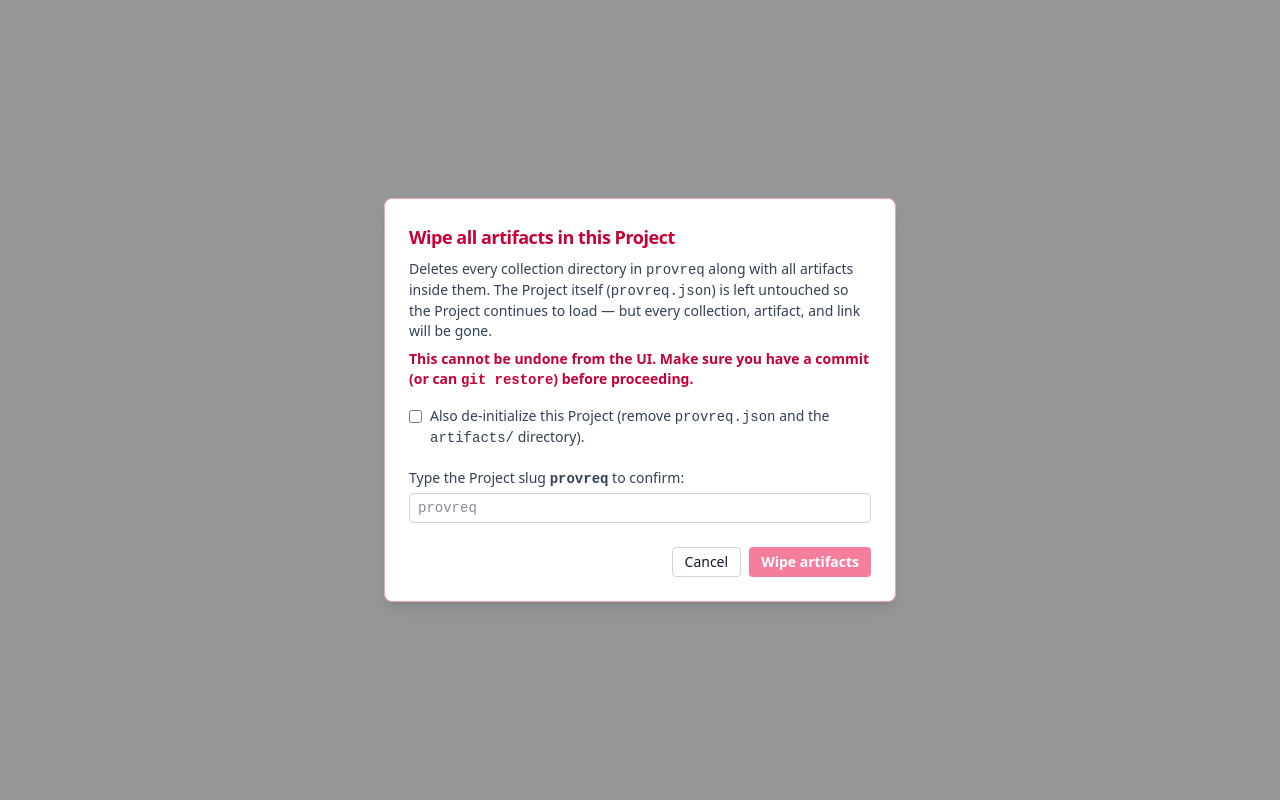
Test: WipeArtifactsDialog › disables the wipe button until the slug is typed exactly
Expected: the button with test id "wipe-artifacts-confirm" is disabled, [749,547,871,577]
Type "wrong" into the field with test id "wipe-artifacts-confirm-input".
click(640, 508); type("wrong")  # box [409,493,871,523]
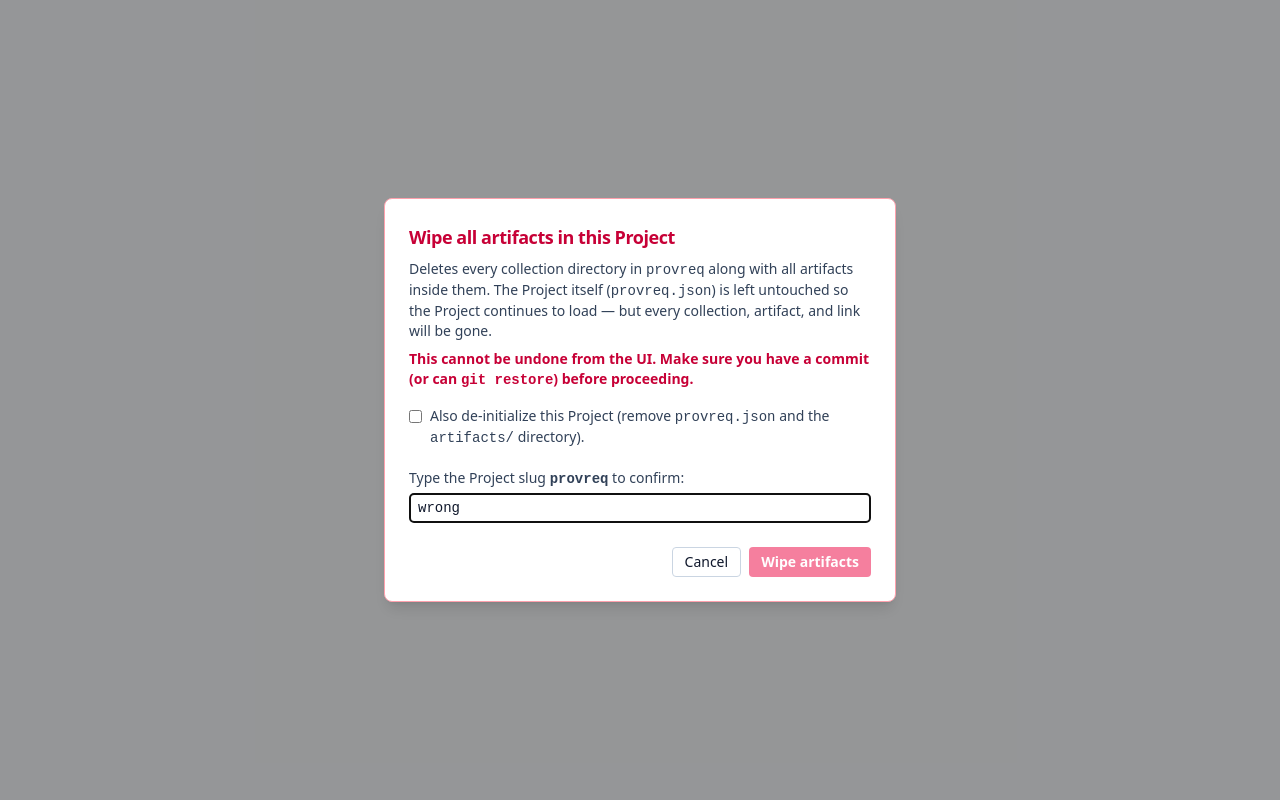
Expected: the button with test id "wipe-artifacts-confirm" is disabled, [749,547,871,577]
Replace the text in the field with test id "wipe-artifacts-confirm-input" with "provreq" at {"x": 640, "y": 508}, box [409,493,871,523]
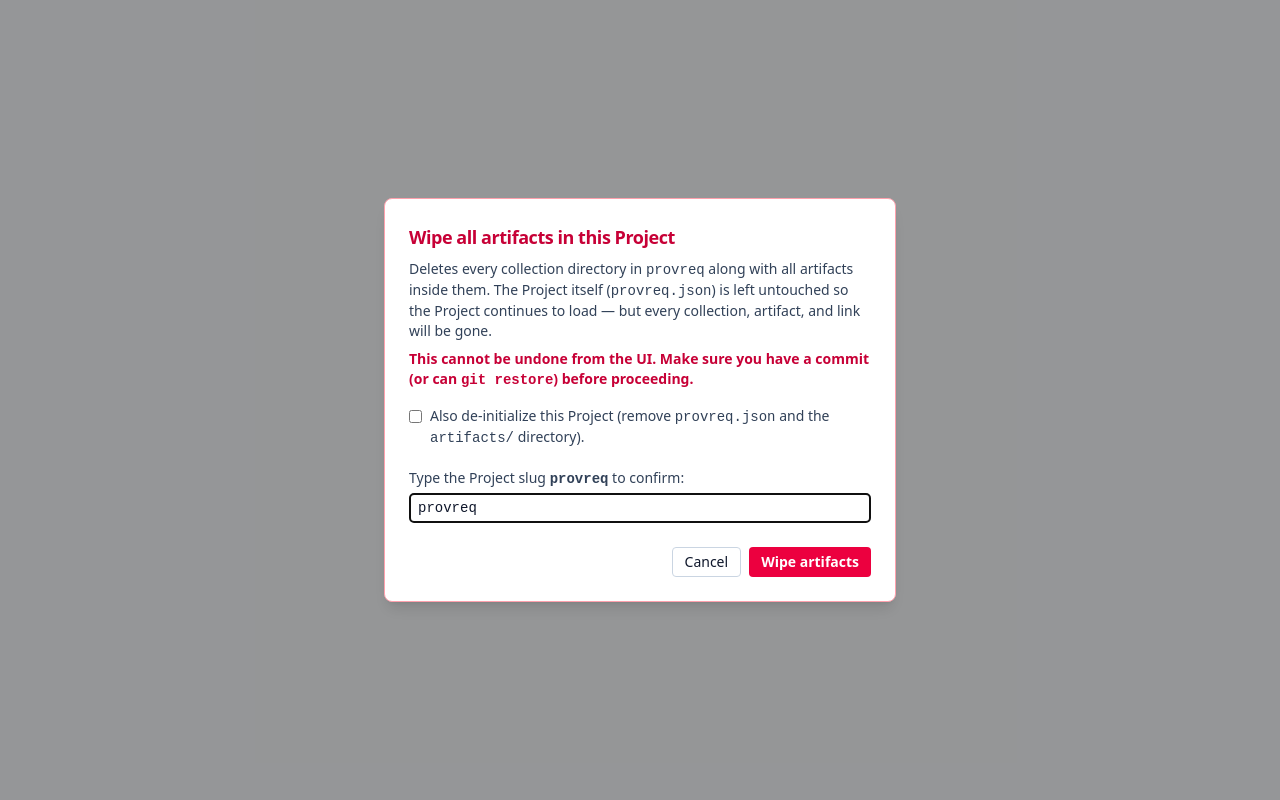
Expected: the button with test id "wipe-artifacts-confirm" is enabled, [749,547,871,577]
